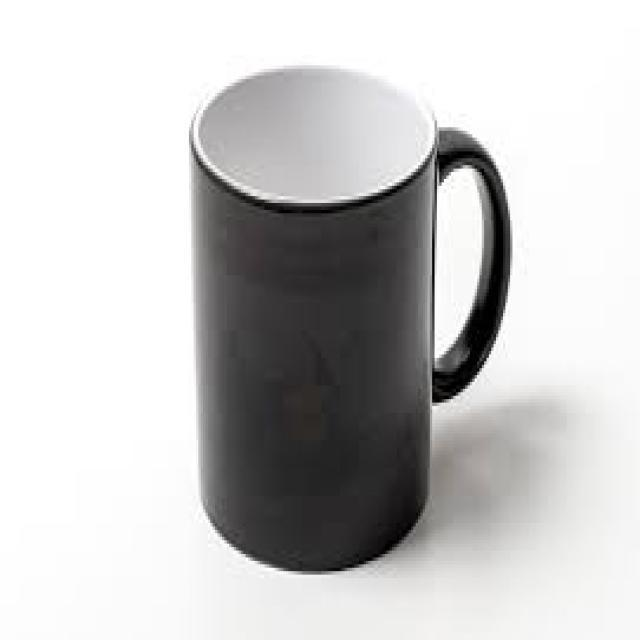taza: (186, 62, 512, 576)
